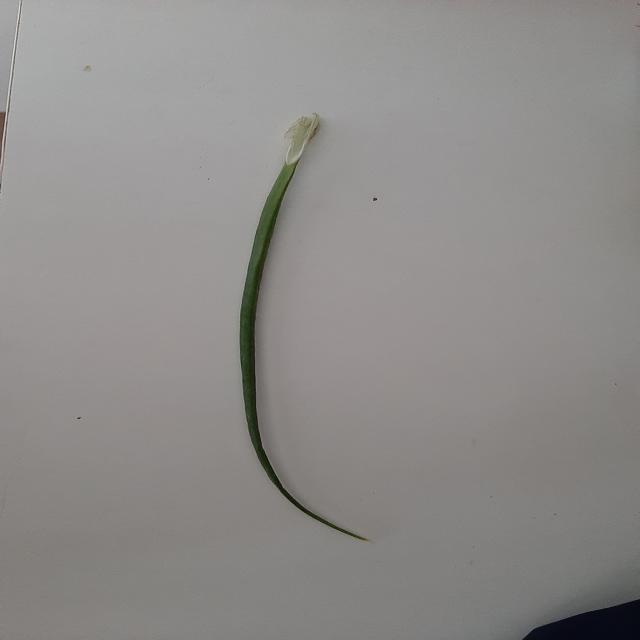onion: (238, 114, 369, 540)
